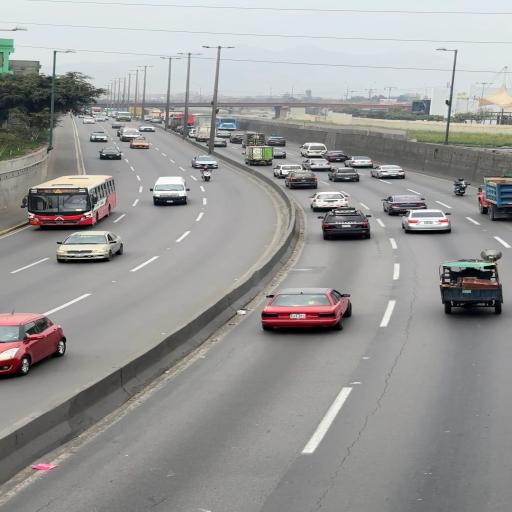auto: (0, 313, 66, 378), (263, 287, 351, 330), (54, 231, 123, 262), (319, 209, 372, 240), (400, 209, 452, 234), (383, 194, 428, 215), (308, 191, 349, 212), (284, 172, 317, 189), (370, 165, 405, 179), (272, 164, 304, 178), (330, 168, 360, 182), (304, 159, 334, 171), (192, 155, 219, 168), (477, 188, 490, 214), (98, 146, 122, 160), (346, 157, 374, 168), (322, 151, 350, 162), (119, 129, 142, 142), (208, 136, 228, 147), (129, 139, 150, 149), (90, 131, 108, 141), (215, 130, 231, 138), (187, 128, 199, 138), (268, 136, 285, 141), (96, 116, 108, 122), (116, 128, 125, 136)
bus: (22, 175, 114, 227), (151, 176, 189, 204), (243, 144, 275, 166), (183, 114, 214, 132), (299, 142, 327, 157), (216, 116, 237, 130), (115, 112, 132, 122), (90, 106, 102, 116), (107, 111, 116, 117)
camion: (436, 261, 504, 313), (476, 176, 512, 220), (190, 125, 212, 142), (242, 132, 266, 147), (168, 116, 187, 130)
moto: (198, 166, 213, 180), (455, 178, 468, 191)
